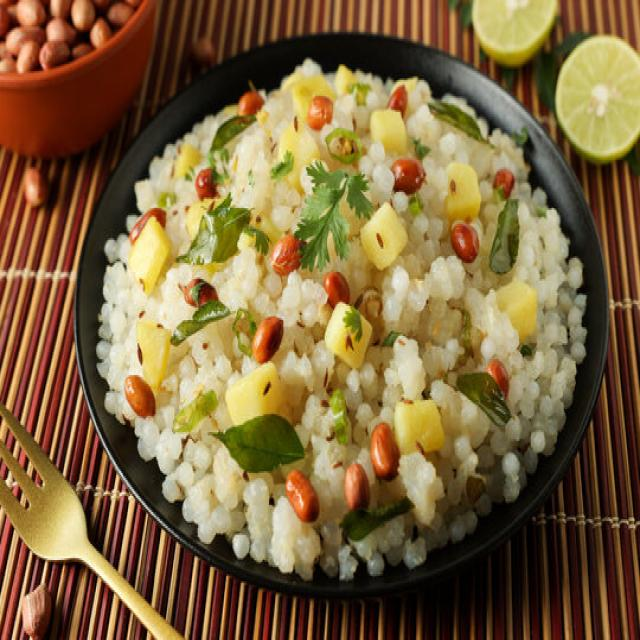UPMA: (95, 59, 588, 581)
